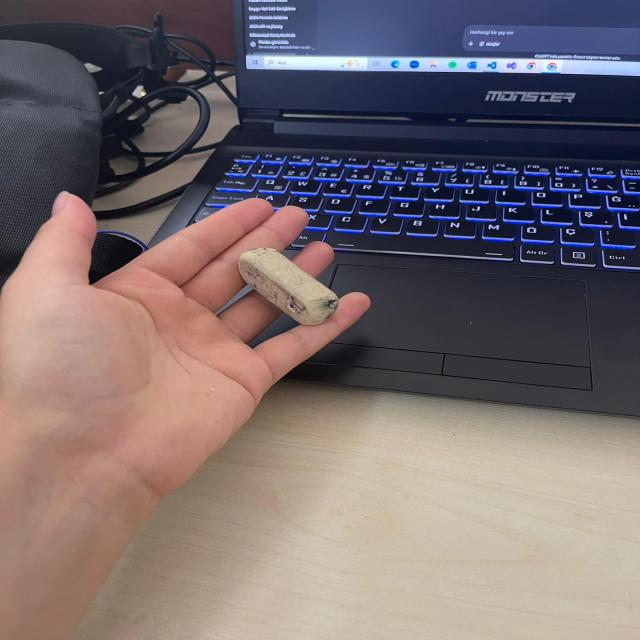eraser: (217, 239, 349, 343)
